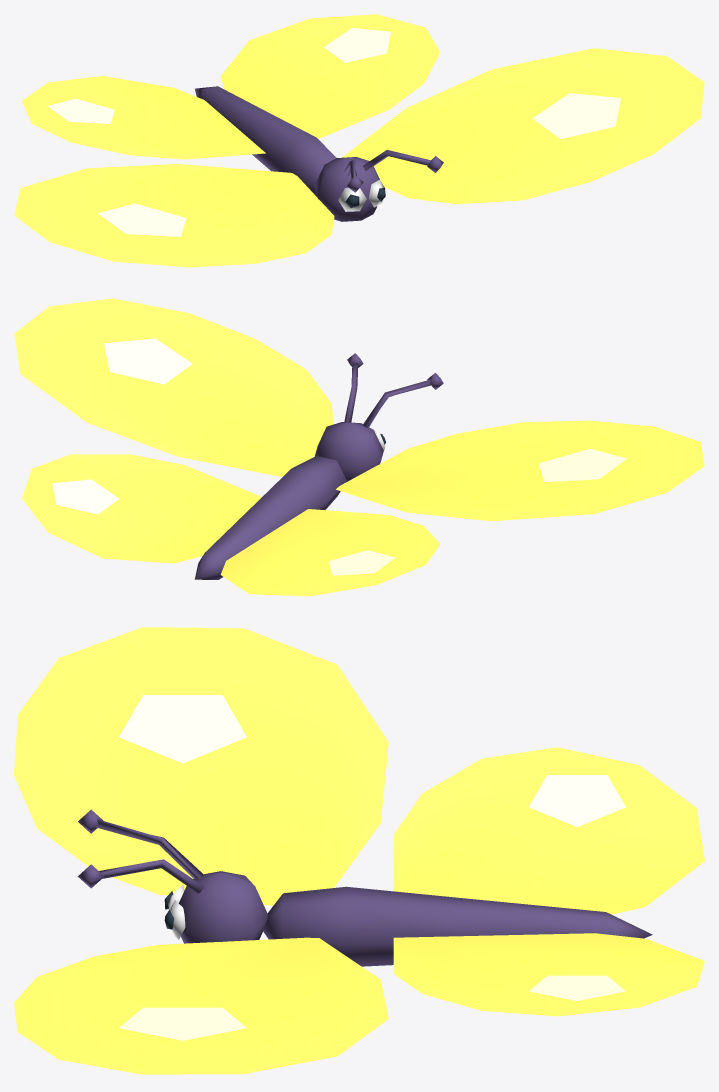
The model's file is butterfly.glb.
The picture shows the model from 3 angles, top to bottom: view 1: azimuth 30°, elevation 25°; view 2: azimuth 150°, elevation 25°; view 3: azimuth 270°, elevation 25°; orthographic projection. The views are drawn at different scales.
Parts seen in each view (by area): view 1: wing-left, wing-right, body; view 2: wing-left, wing-right, body; view 3: wing-right, wing-left, body.
Part boxes in pixels (<box>): wing-left: <box>220,14,704,204</box>; wing-right: <box>14,76,334,267</box>; body: <box>195,86,443,221</box>; wing-left: <box>14,298,333,563</box>; wing-right: <box>220,420,704,596</box>; body: <box>194,353,443,579</box>; wing-right: <box>14,627,704,914</box>; wing-left: <box>14,933,704,1074</box>; body: <box>78,809,652,966</box>.
Size of the model in its own units: 3.92 by 0.51 by 2.56.
